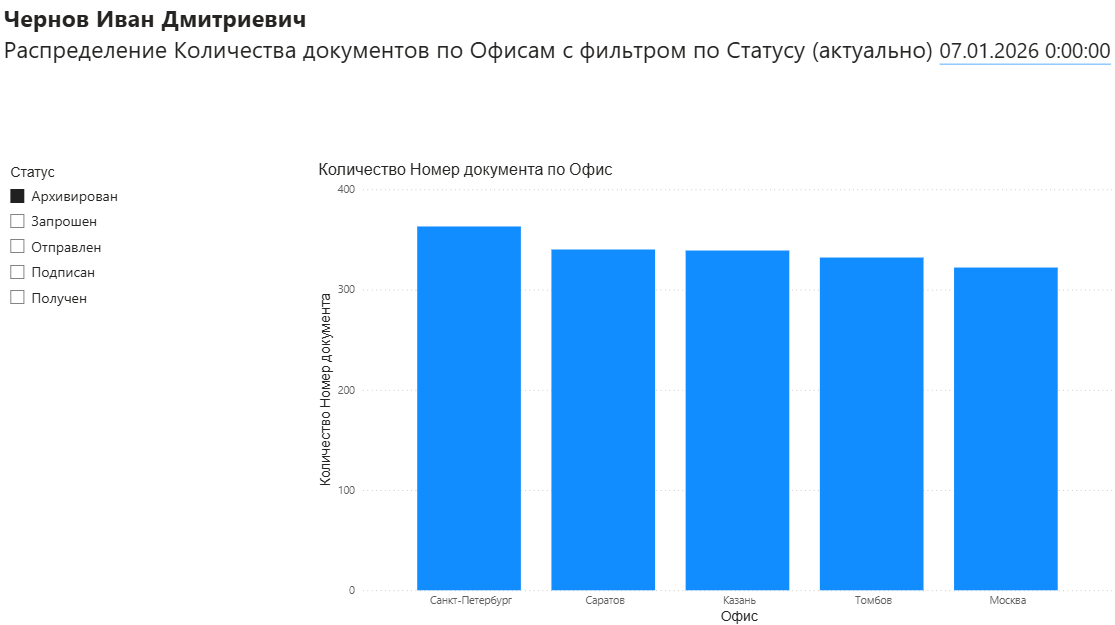

The dashboard page shown, as its layout file describes it:
{"tool":"powerbi","page":{"name":"Диаграмма 1","canvas":[1280,720],"ordinal":0},"visuals":[{"type":"columnChart","fields":{"Y":["CountNonNull(Sheet1.Номер документа)"],"Category":["Sheet1.Офис"]},"box":[359.5,185.2,920.8,535.2],"z":0},{"type":"textbox","box":[0,0,1280.3,185.2],"z":1},{"type":"slicer","fields":{"Values":["Sheet1.Статус"]},"box":[0,185,360,535],"z":2}]}

Visuals, with their boxes in screenshot pixels (x1, y1, x2, y2), scaled from the page's 1280x720 canvas onto the 1115x625 screenshot:
columnChart - CountNonNull(Sheet1.Номер документа) x Sheet1.Офис: (313, 161, 1114, 624)
textbox: (0, 0, 1114, 161)
slicer - Sheet1.Статус: (0, 161, 314, 624)
